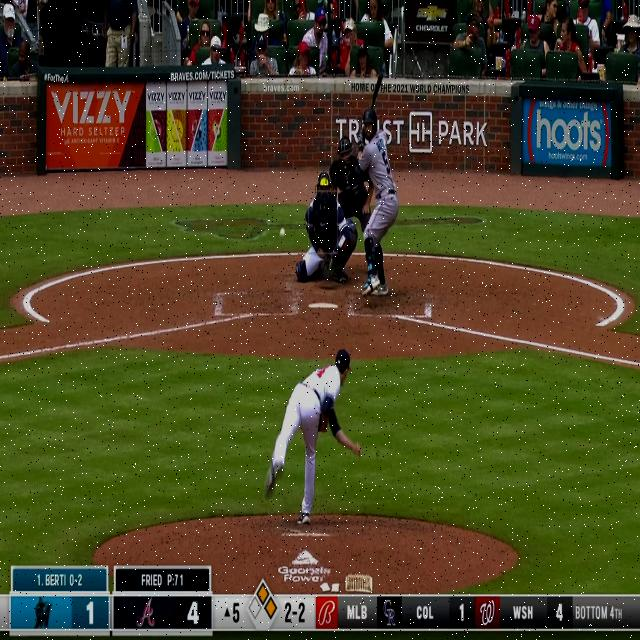baseball: (279, 227, 285, 238)
